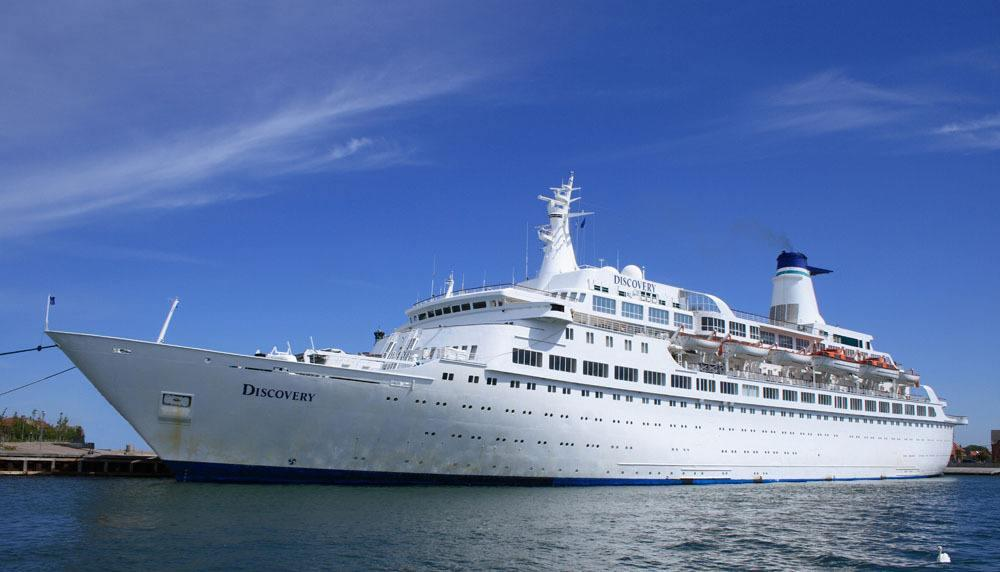youlun: (36, 168, 969, 480)
